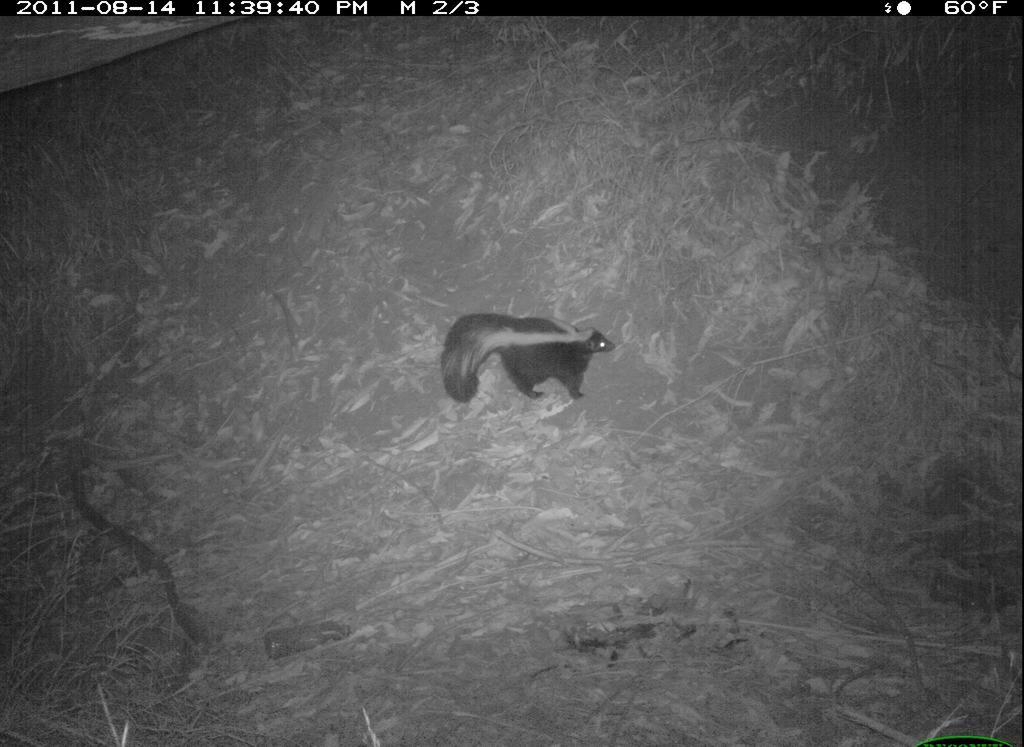skunk: (440, 308, 619, 423)
